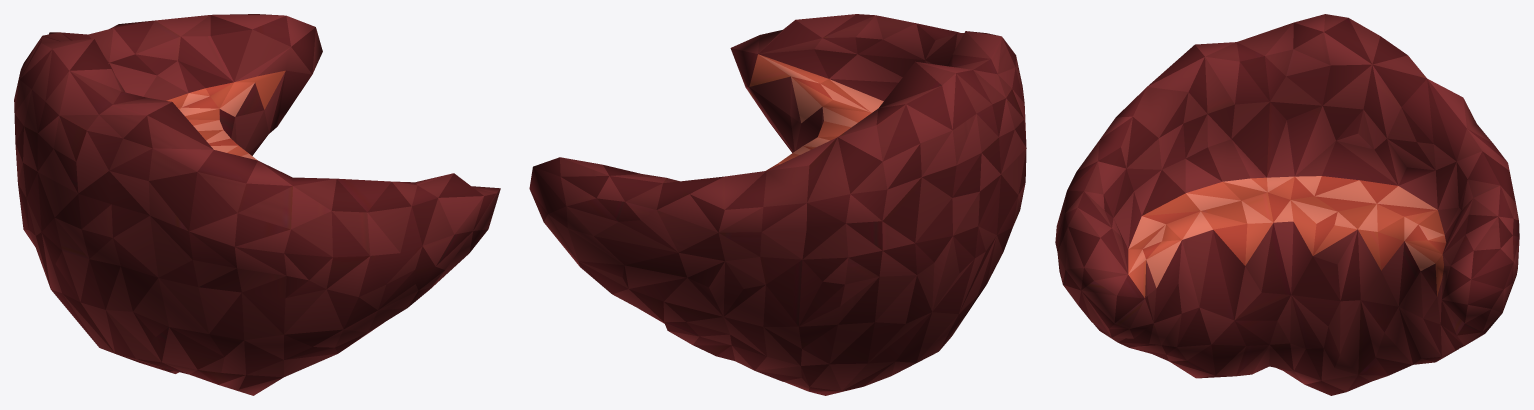
Rendered from Crescent_Island_Low_Lvl_1.fbx.
3 renders of one model, left to right at view 1: azimuth 30°, elevation 25°; view 2: azimuth 150°, elevation 25°; view 3: azimuth 270°, elevation 25°, orthographic. The views are drawn at different scales.
Visible parts, largest first — view 1: polySurface1; view 2: polySurface1; view 3: polySurface1.
Boxes of the visible parts, left/top/right/bottom form: polySurface1: left=14, top=14, right=500, bottom=395; polySurface1: left=529, top=14, right=1026, bottom=395; polySurface1: left=1055, top=14, right=1519, bottom=395.
Bounding box in the file's own units: 1750 × 1553 × 2008.
